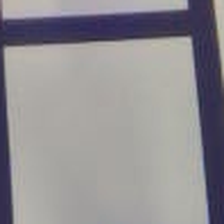empty: (5, 47, 205, 224)
